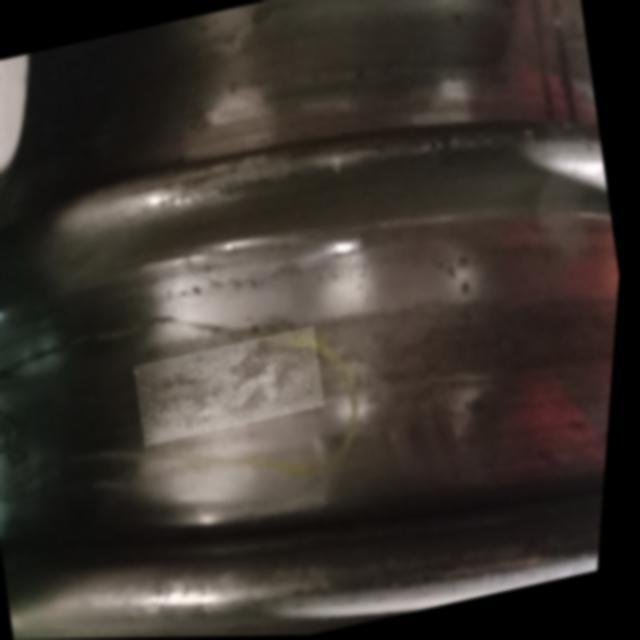flat: (88, 344, 380, 442)
